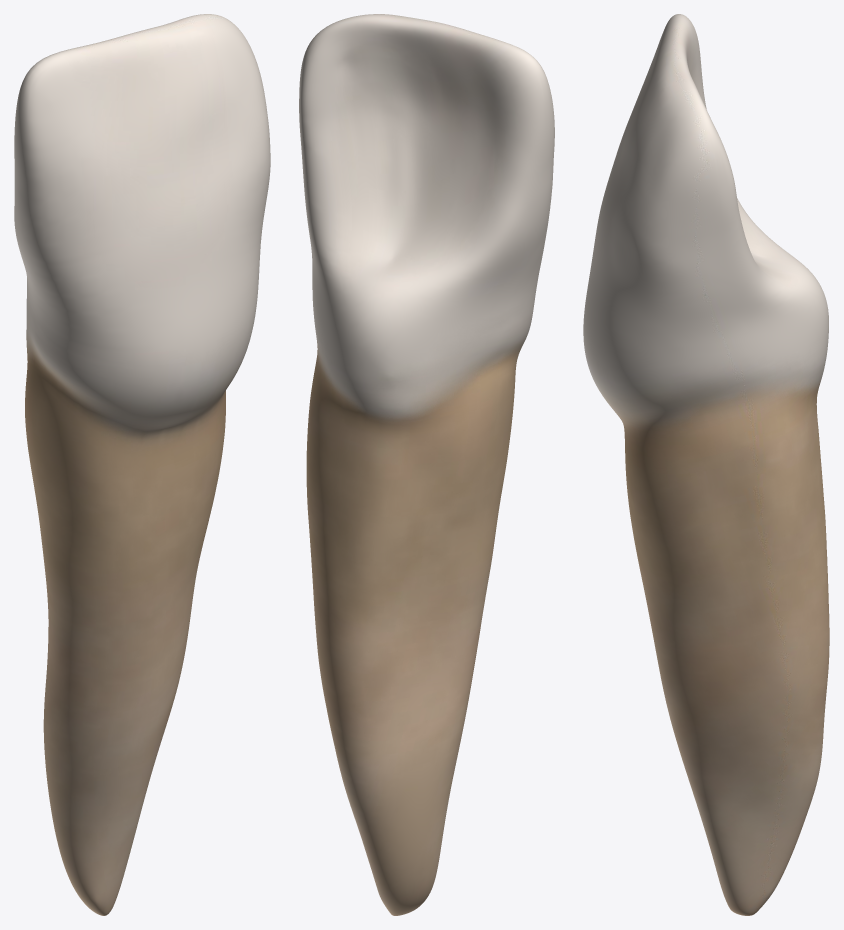
File: primary_lower_left_central_incisor_fdi_71.glb
The picture shows the model from 3 angles, left to right: view 1: azimuth 30°, elevation 25°; view 2: azimuth 150°, elevation 25°; view 3: azimuth 270°, elevation 25°; orthographic projection. The views are drawn at different scales.
Parts seen in each view (by area): view 1: Object_3; view 2: Object_3; view 3: Object_3.
Part boxes in pixels (x1,y1,x2,y2): Object_3: [14, 14, 270, 915]; Object_3: [299, 14, 554, 915]; Object_3: [583, 14, 829, 915].
Size of the model in its own units: 1.72 by 6.05 by 1.57.
Materials: 1 (1 with a texture image).
